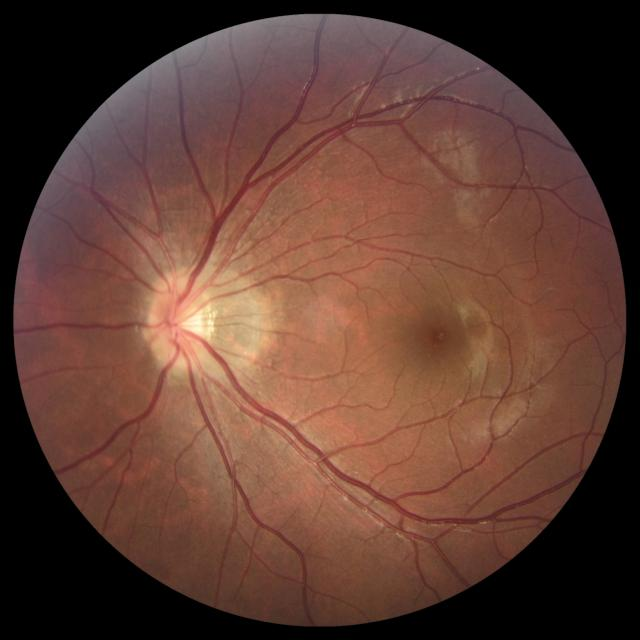OC: (166, 306, 199, 337)
OD: (145, 274, 217, 372)
